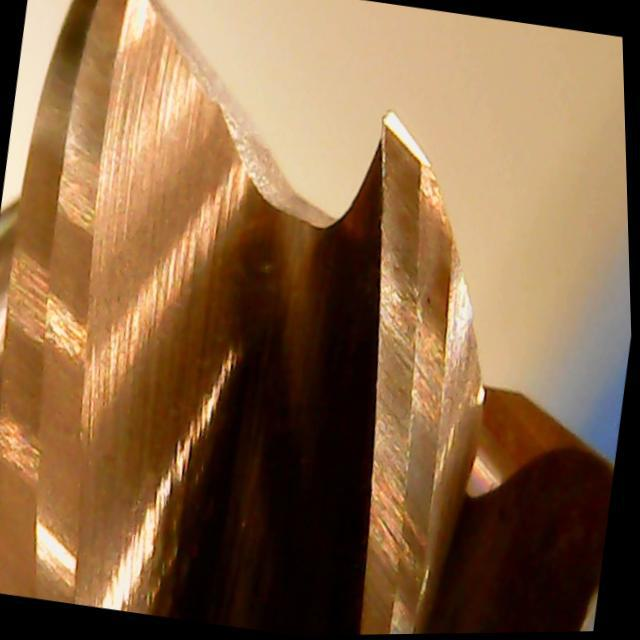Tool-wear-class-0: (328, 101, 506, 404)
